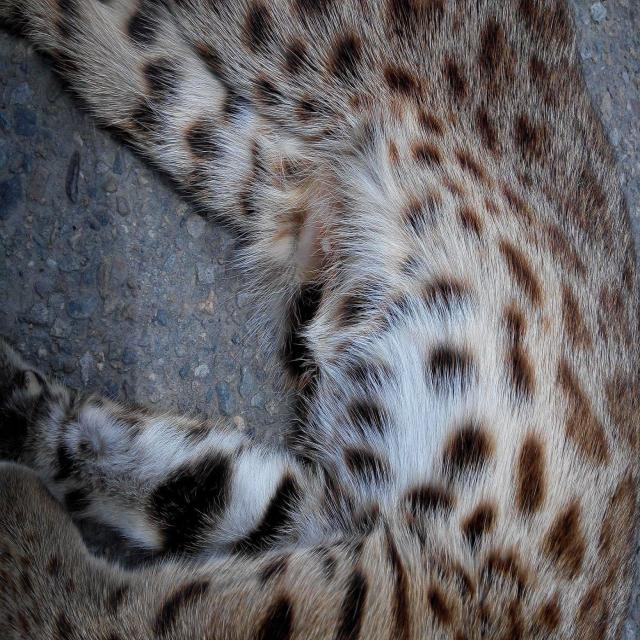leopard: (13, 387, 594, 640), (242, 36, 640, 373)
